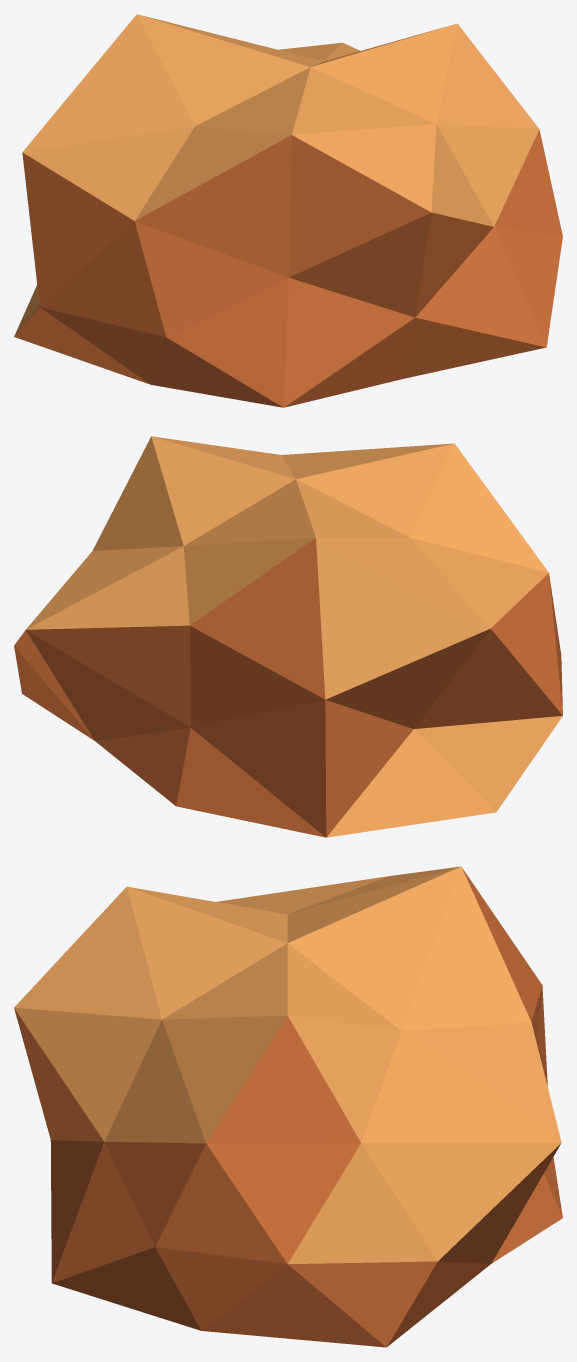
The model's file is CA_Roca_Mediana_A.obj.
The picture shows the model from 3 angles, top to bottom: view 1: azimuth 30°, elevation 25°; view 2: azimuth 150°, elevation 25°; view 3: azimuth 270°, elevation 25°; orthographic projection. The views are drawn at different scales.
Parts seen in each view (by area): view 1: CA_Roca_Mediana_A; view 2: CA_Roca_Mediana_A; view 3: CA_Roca_Mediana_A.
Boxes of the visible parts, x1,y1,x2,y2 form: CA_Roca_Mediana_A: [14, 14, 562, 407]; CA_Roca_Mediana_A: [14, 436, 562, 837]; CA_Roca_Mediana_A: [14, 866, 562, 1347].
Bounding box in the file's own units: 2.55 × 1.27 × 2.12.
